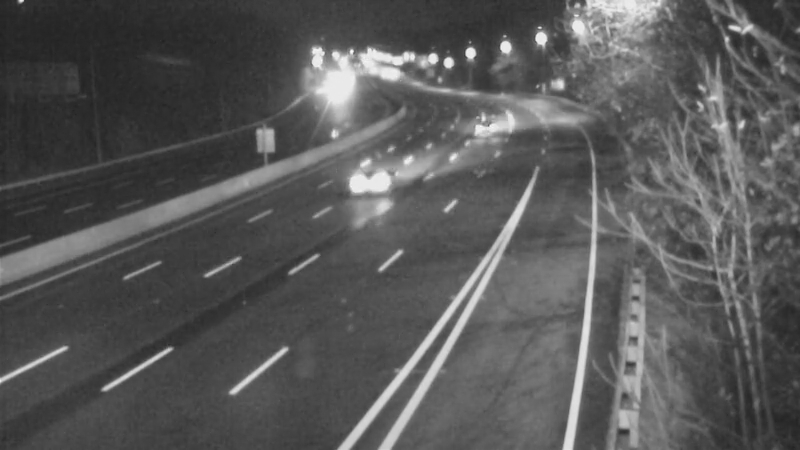vehicle: (328, 146, 408, 226), (463, 101, 513, 151), (307, 65, 357, 115)
